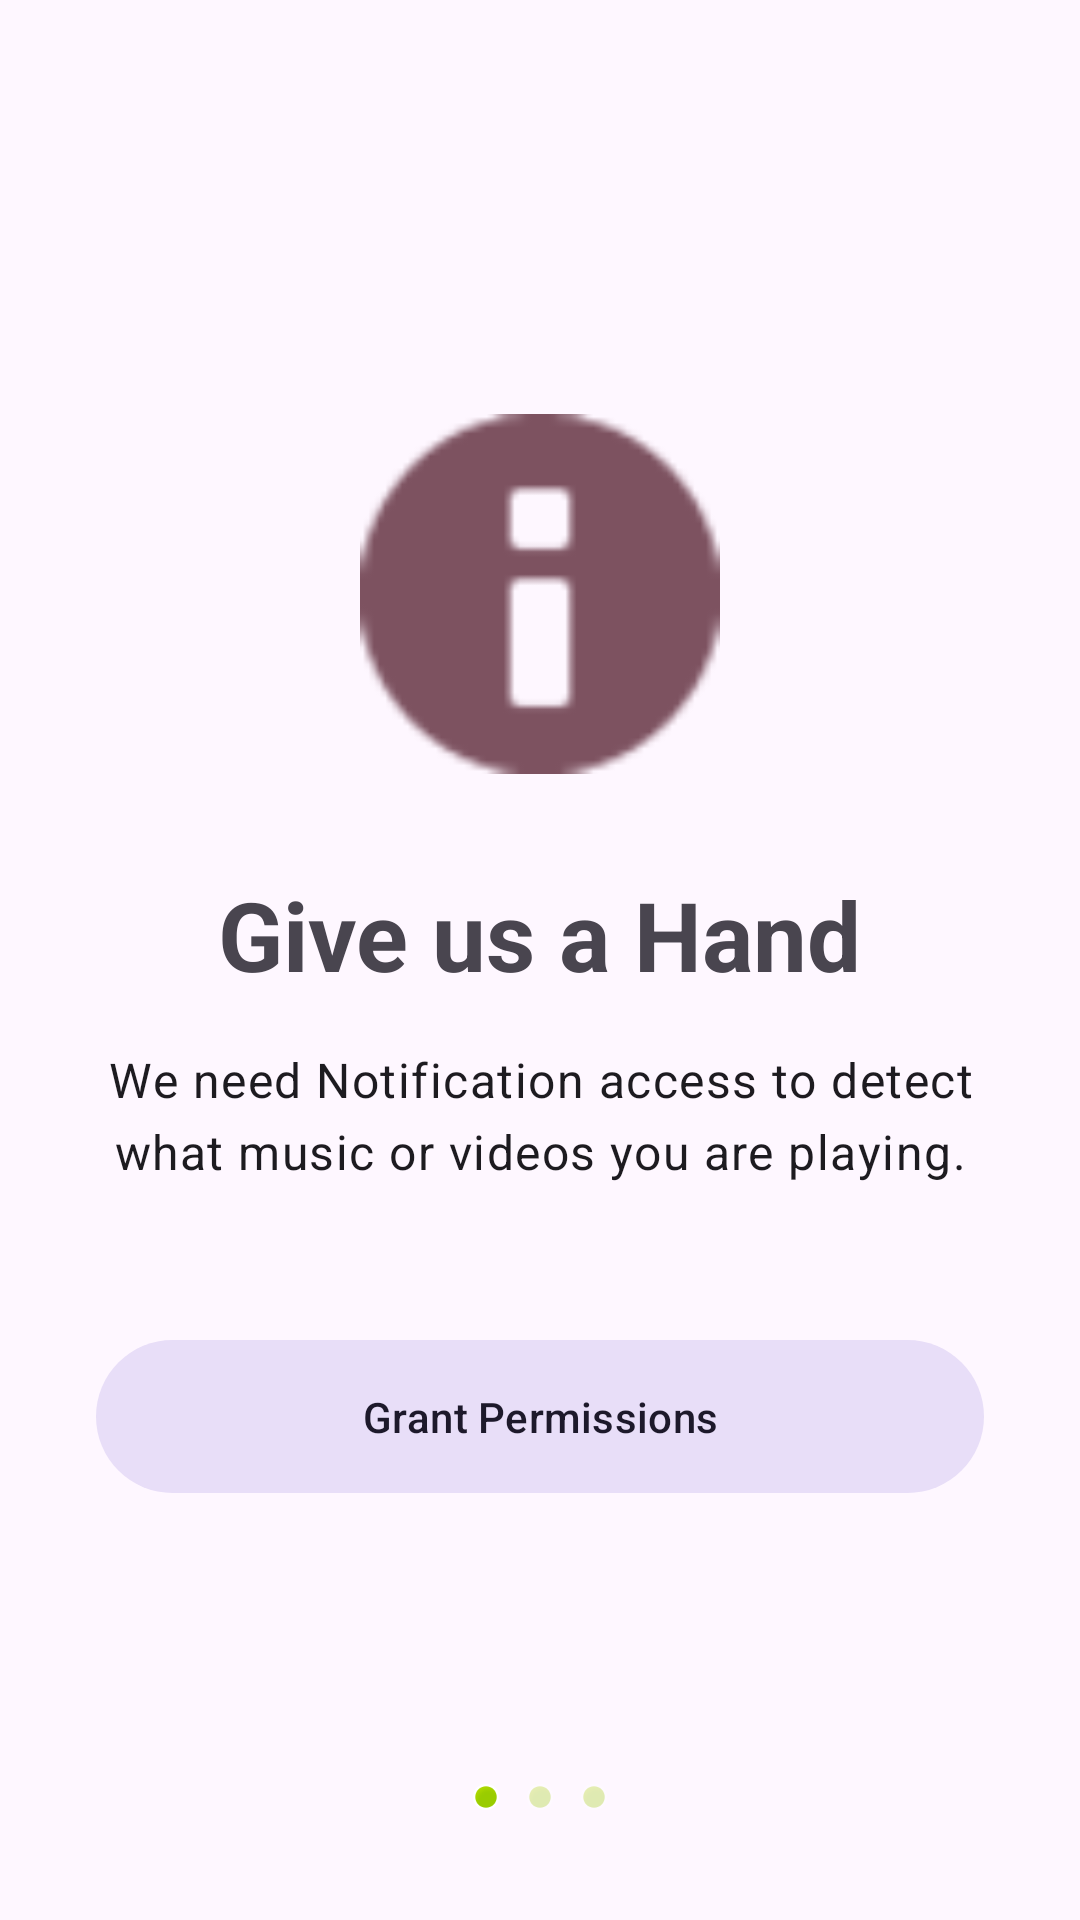

Where icons sit on this 1080w x 1920h app screen, as (x1, y1, x2, y2):
info: (360, 414, 720, 774)
